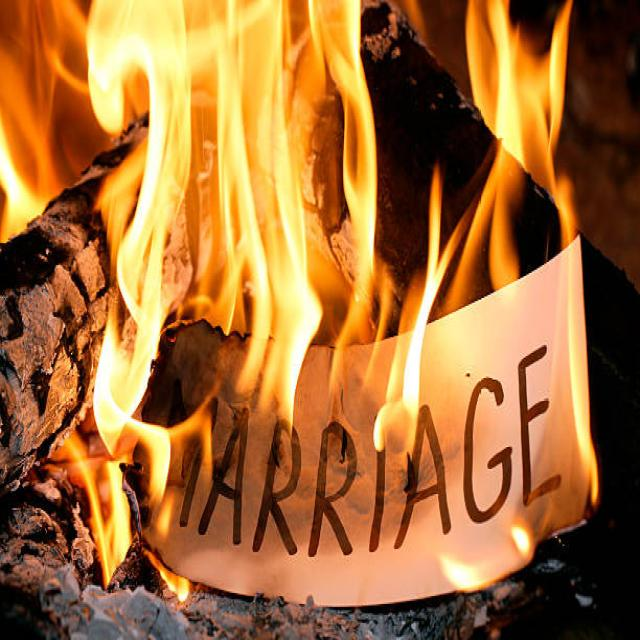fire: (0, 0, 111, 207), (274, 3, 326, 437), (215, 28, 273, 399), (372, 165, 444, 461), (466, 1, 550, 185), (116, 138, 195, 322), (88, 0, 192, 138), (309, 0, 376, 212), (444, 147, 525, 311), (50, 429, 132, 588), (142, 379, 215, 548), (328, 212, 374, 433), (94, 320, 156, 456), (0, 127, 45, 240), (549, 0, 574, 156), (489, 185, 522, 292), (136, 421, 172, 510), (45, 38, 88, 98), (444, 197, 479, 270), (142, 552, 190, 600), (551, 173, 577, 249)
